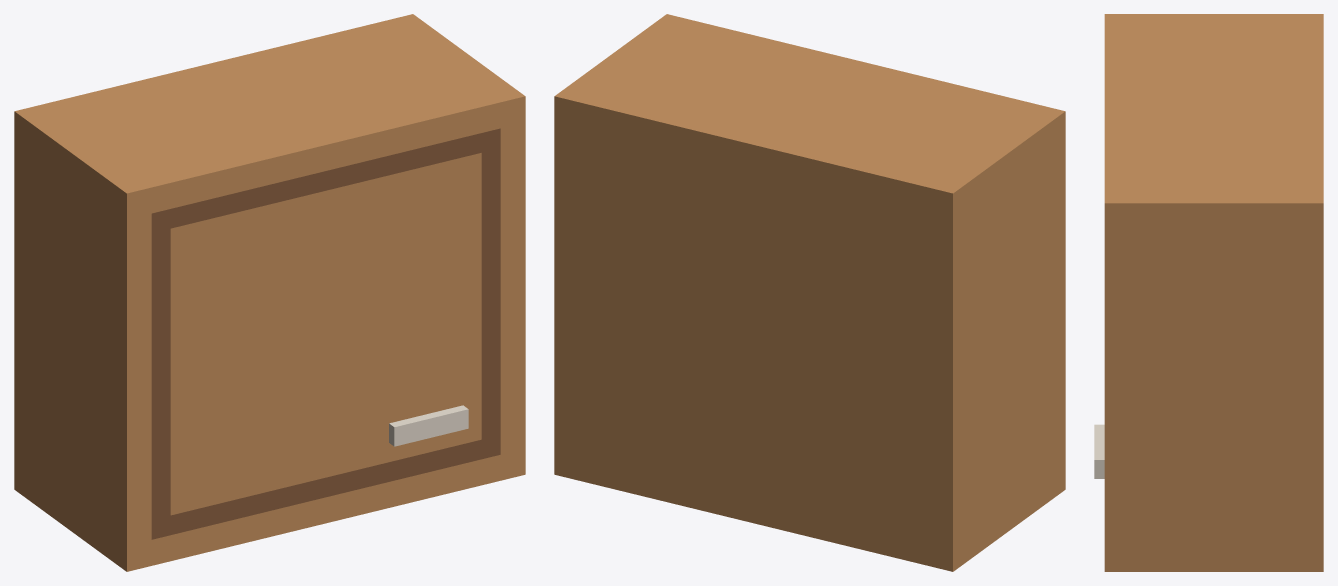
The model's file is kitKitchenCabinetUpper.glb.
3 renders of one model, left to right at view 1: azimuth 30°, elevation 25°; view 2: azimuth 150°, elevation 25°; view 3: azimuth 270°, elevation 25°, orthographic. The views are drawn at different scales.
Visible parts, largest first — view 1: kitKitchenCabinetUpper_wood, kitKitchenCabinetUpper_woodDark, kitKitchenCabinetUpper_metal; view 2: kitKitchenCabinetUpper_wood; view 3: kitKitchenCabinetUpper_wood, kitKitchenCabinetUpper_metal.
Boxes of the visible parts, left/top/right/bottom form: kitKitchenCabinetUpper_wood: left=14, top=14, right=525, bottom=571; kitKitchenCabinetUpper_woodDark: left=151, top=128, right=500, bottom=539; kitKitchenCabinetUpper_metal: left=389, top=405, right=468, bottom=446; kitKitchenCabinetUpper_wood: left=554, top=14, right=1065, bottom=571; kitKitchenCabinetUpper_wood: left=1104, top=14, right=1323, bottom=571; kitKitchenCabinetUpper_metal: left=1094, top=424, right=1104, bottom=478.
Size of the model in its own units: 0.86 by 0.78 by 0.44.
